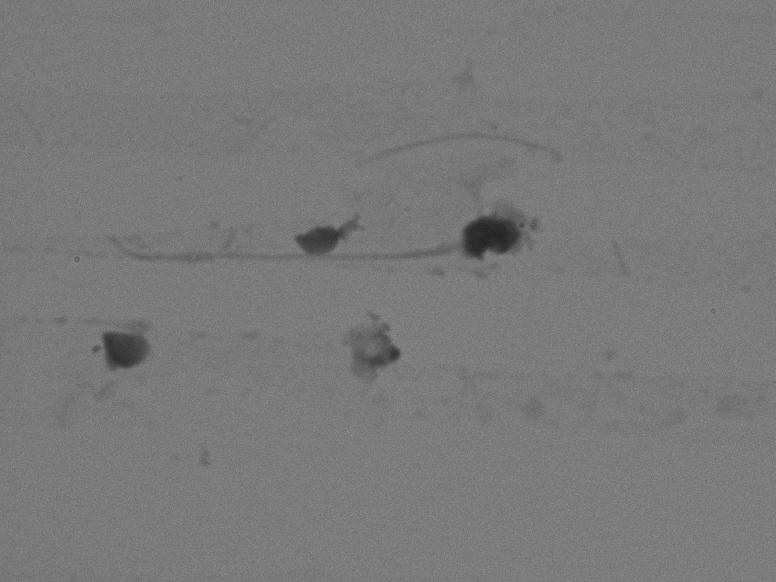Abnormal: (67, 153, 546, 301)
